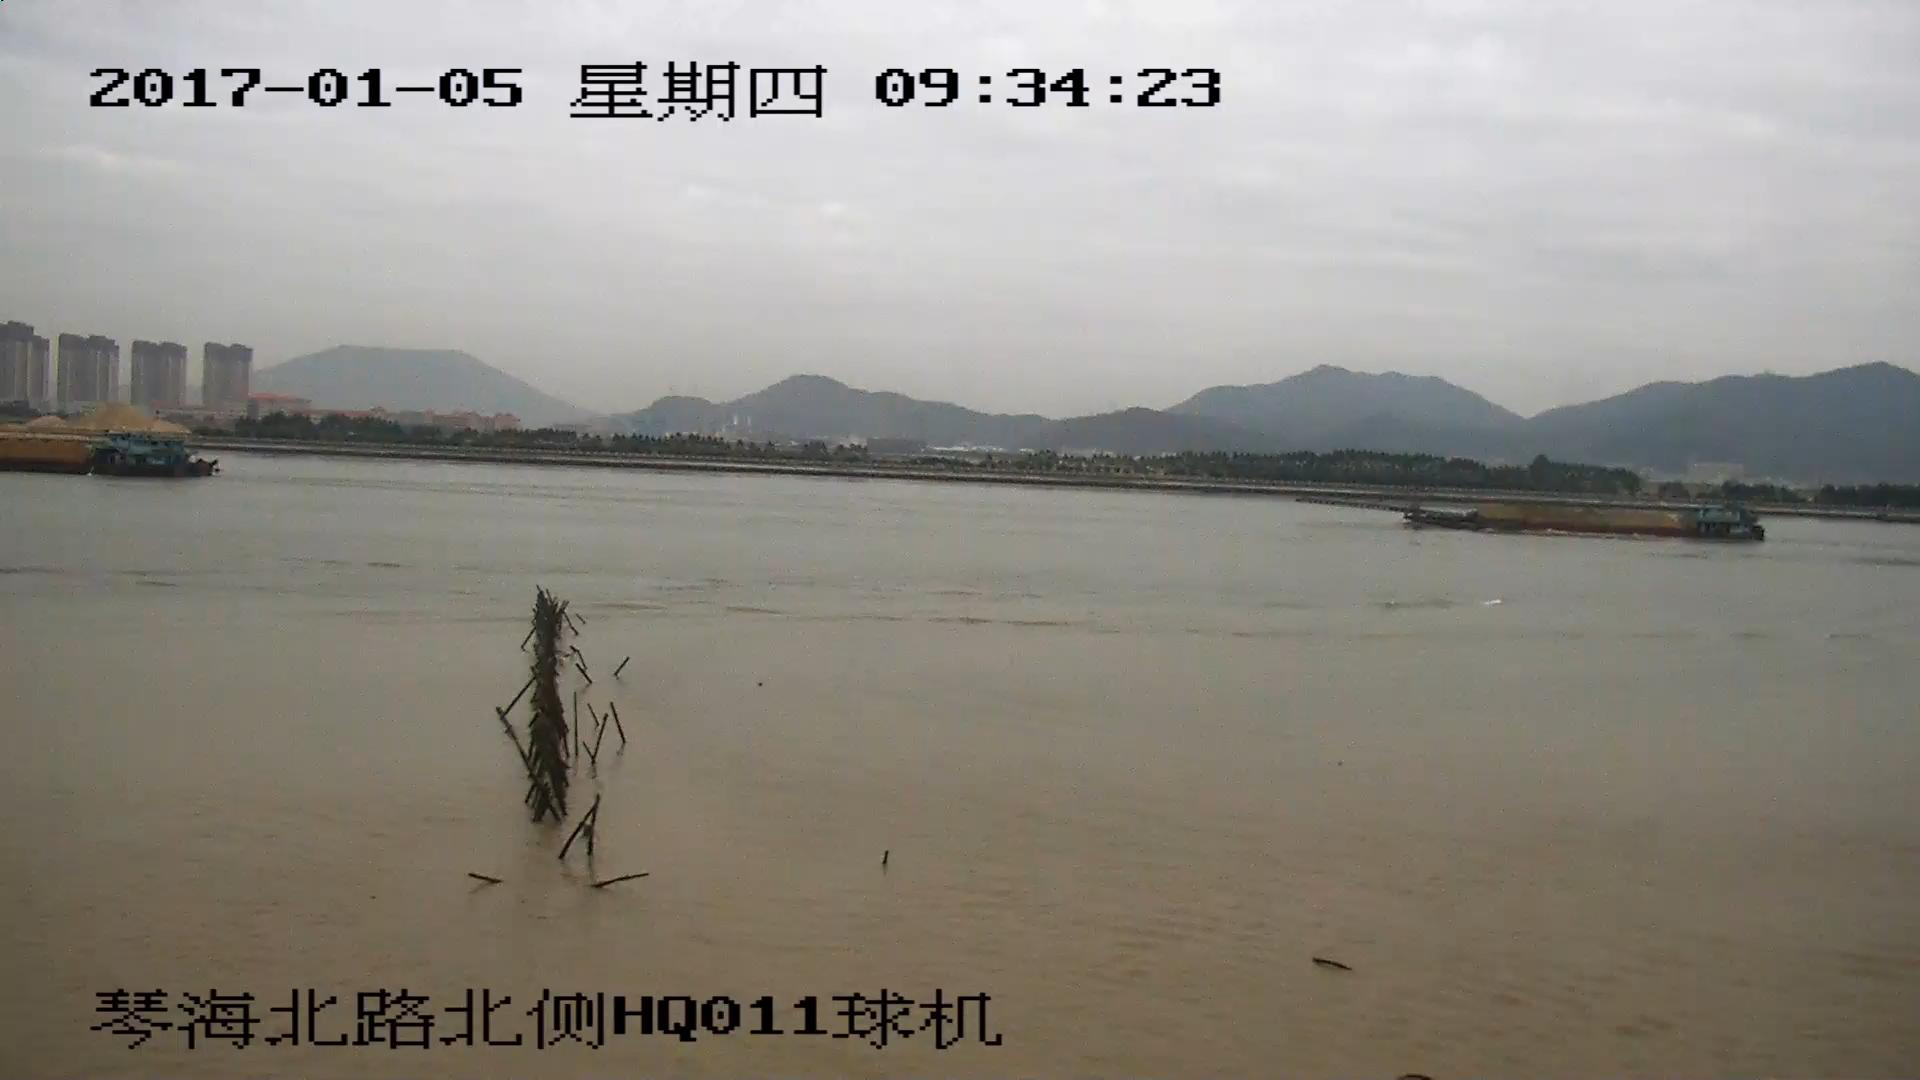ore carrier: (1300, 494, 1768, 542), (1, 436, 210, 482)
